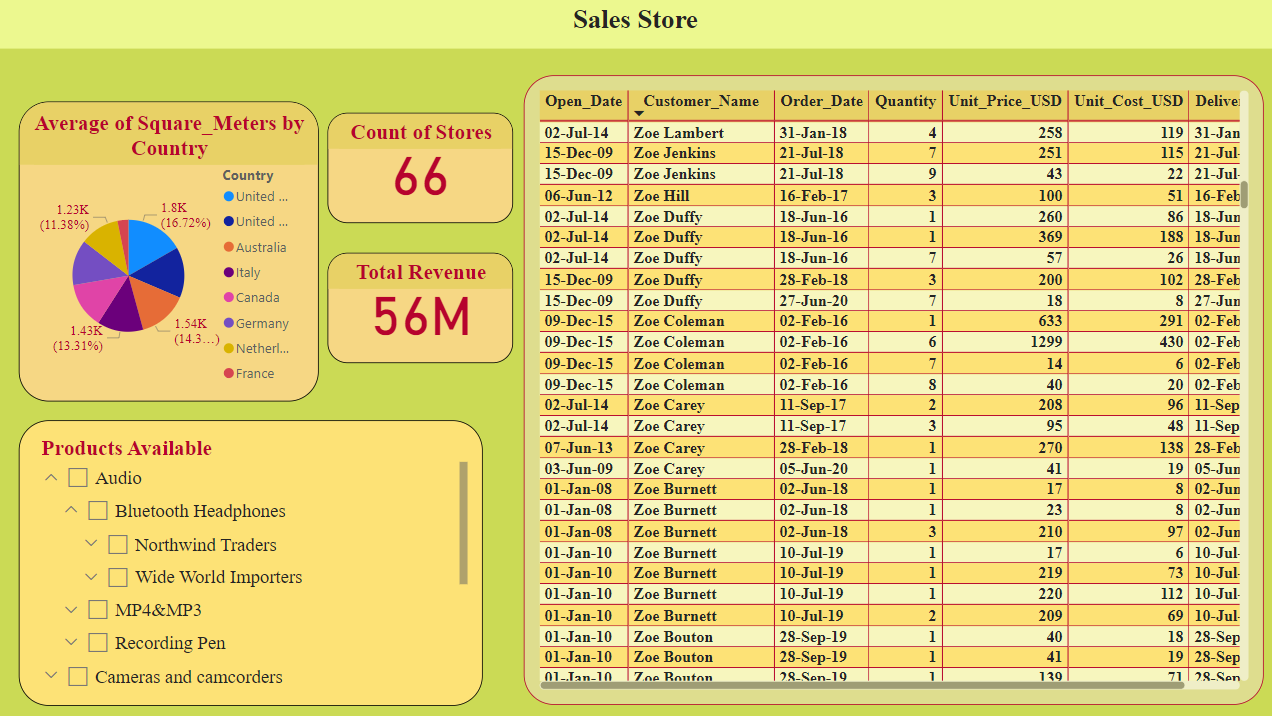

What the dashboard file says about the page in this screenshot:
{"tool":"powerbi","page":{"name":"Sale","canvas":[1280,720],"ordinal":2},"visuals":[{"type":"slicer","fields":{"Values":["dataspark product.Category","dataspark product.Subcategory","dataspark product.Brand","dataspark product.Product_Name"]},"box":[23.4,420.8,463.6,285.7],"z":0},{"type":"tableEx","fields":{"Values":["dataspark store.Open_Date","dataspark customer.Customer_Name","dataspark sale.Order_Date","dataspark sale.Quantity","dataspark product.Unit_Price_USD","dataspark product.Unit_Cost_USD","dataspark sale.Delivery_Date"]},"box":[528.6,76.6,740.3,629.9],"z":1000},{"type":"textbox","box":[0,0,1280.5,49.4],"z":2000},{"type":"card","title":"Count of Stores","fields":{"Values":["dataspark store.StoreKey"]},"box":[332.5,114.3,185.7,110.4],"z":3000},{"type":"pieChart","fields":{"Category":["dataspark store.Country"],"Y":["dataspark store.Square_Meters"]},"box":[23.4,102.6,300,300],"z":4000},{"type":"card","title":"Total Revenue","fields":{"Values":["dataspark sale.TotalRevenue"]},"box":[332.5,253.2,185.7,110.4],"z":4001}]}

Visuals, with their boxes in screenshot pixels (x1, y1, x2, y2), scaled from the page's 1280x720 canvas onto the 1272x716 screenshot:
slicer - dataspark product.Category x dataspark product.Subcategory: [23,418,484,703]
tableEx - dataspark store.Open_Date x dataspark customer.Customer_Name: [525,76,1261,703]
textbox: [0,0,1271,49]
"Count of Stores" card: [330,114,515,223]
pieChart - dataspark store.Country x dataspark store.Square_Meters: [23,102,321,400]
"Total Revenue" card: [330,252,515,362]
